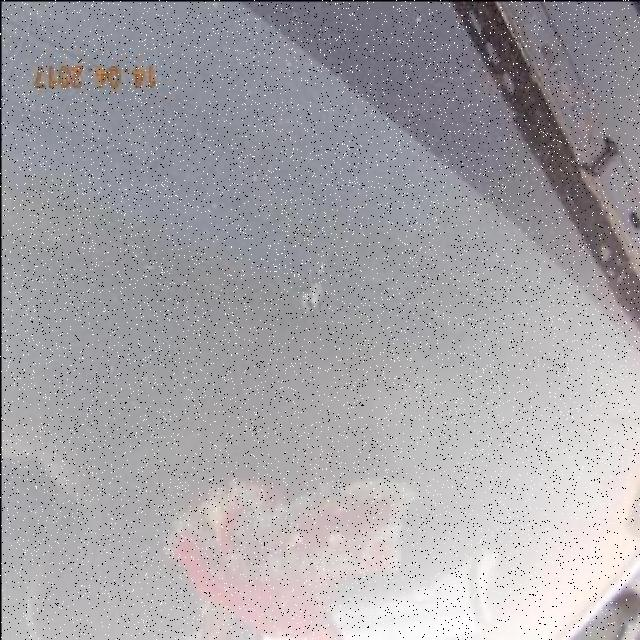damage: (292, 268, 332, 322)
